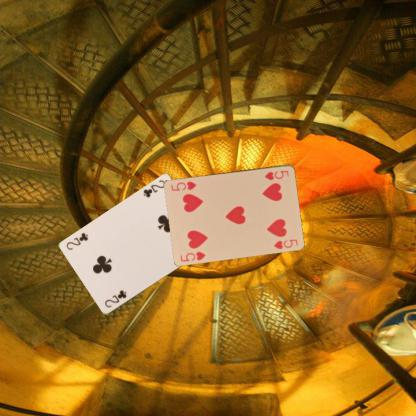2c: (140, 177, 166, 199), (102, 288, 128, 309)
5h: (262, 167, 290, 181), (178, 249, 207, 262)
